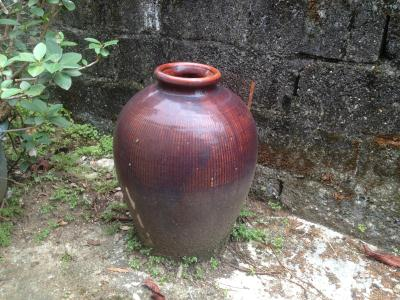bowl: (109, 59, 263, 263)
